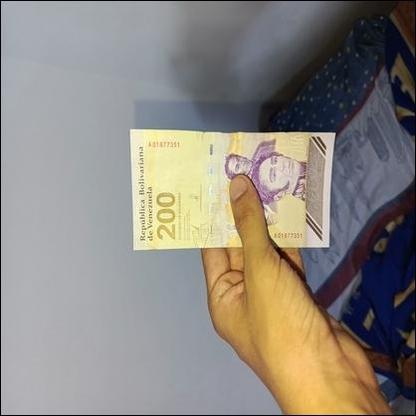two_hundred-front-vef: (128, 128, 336, 252)
